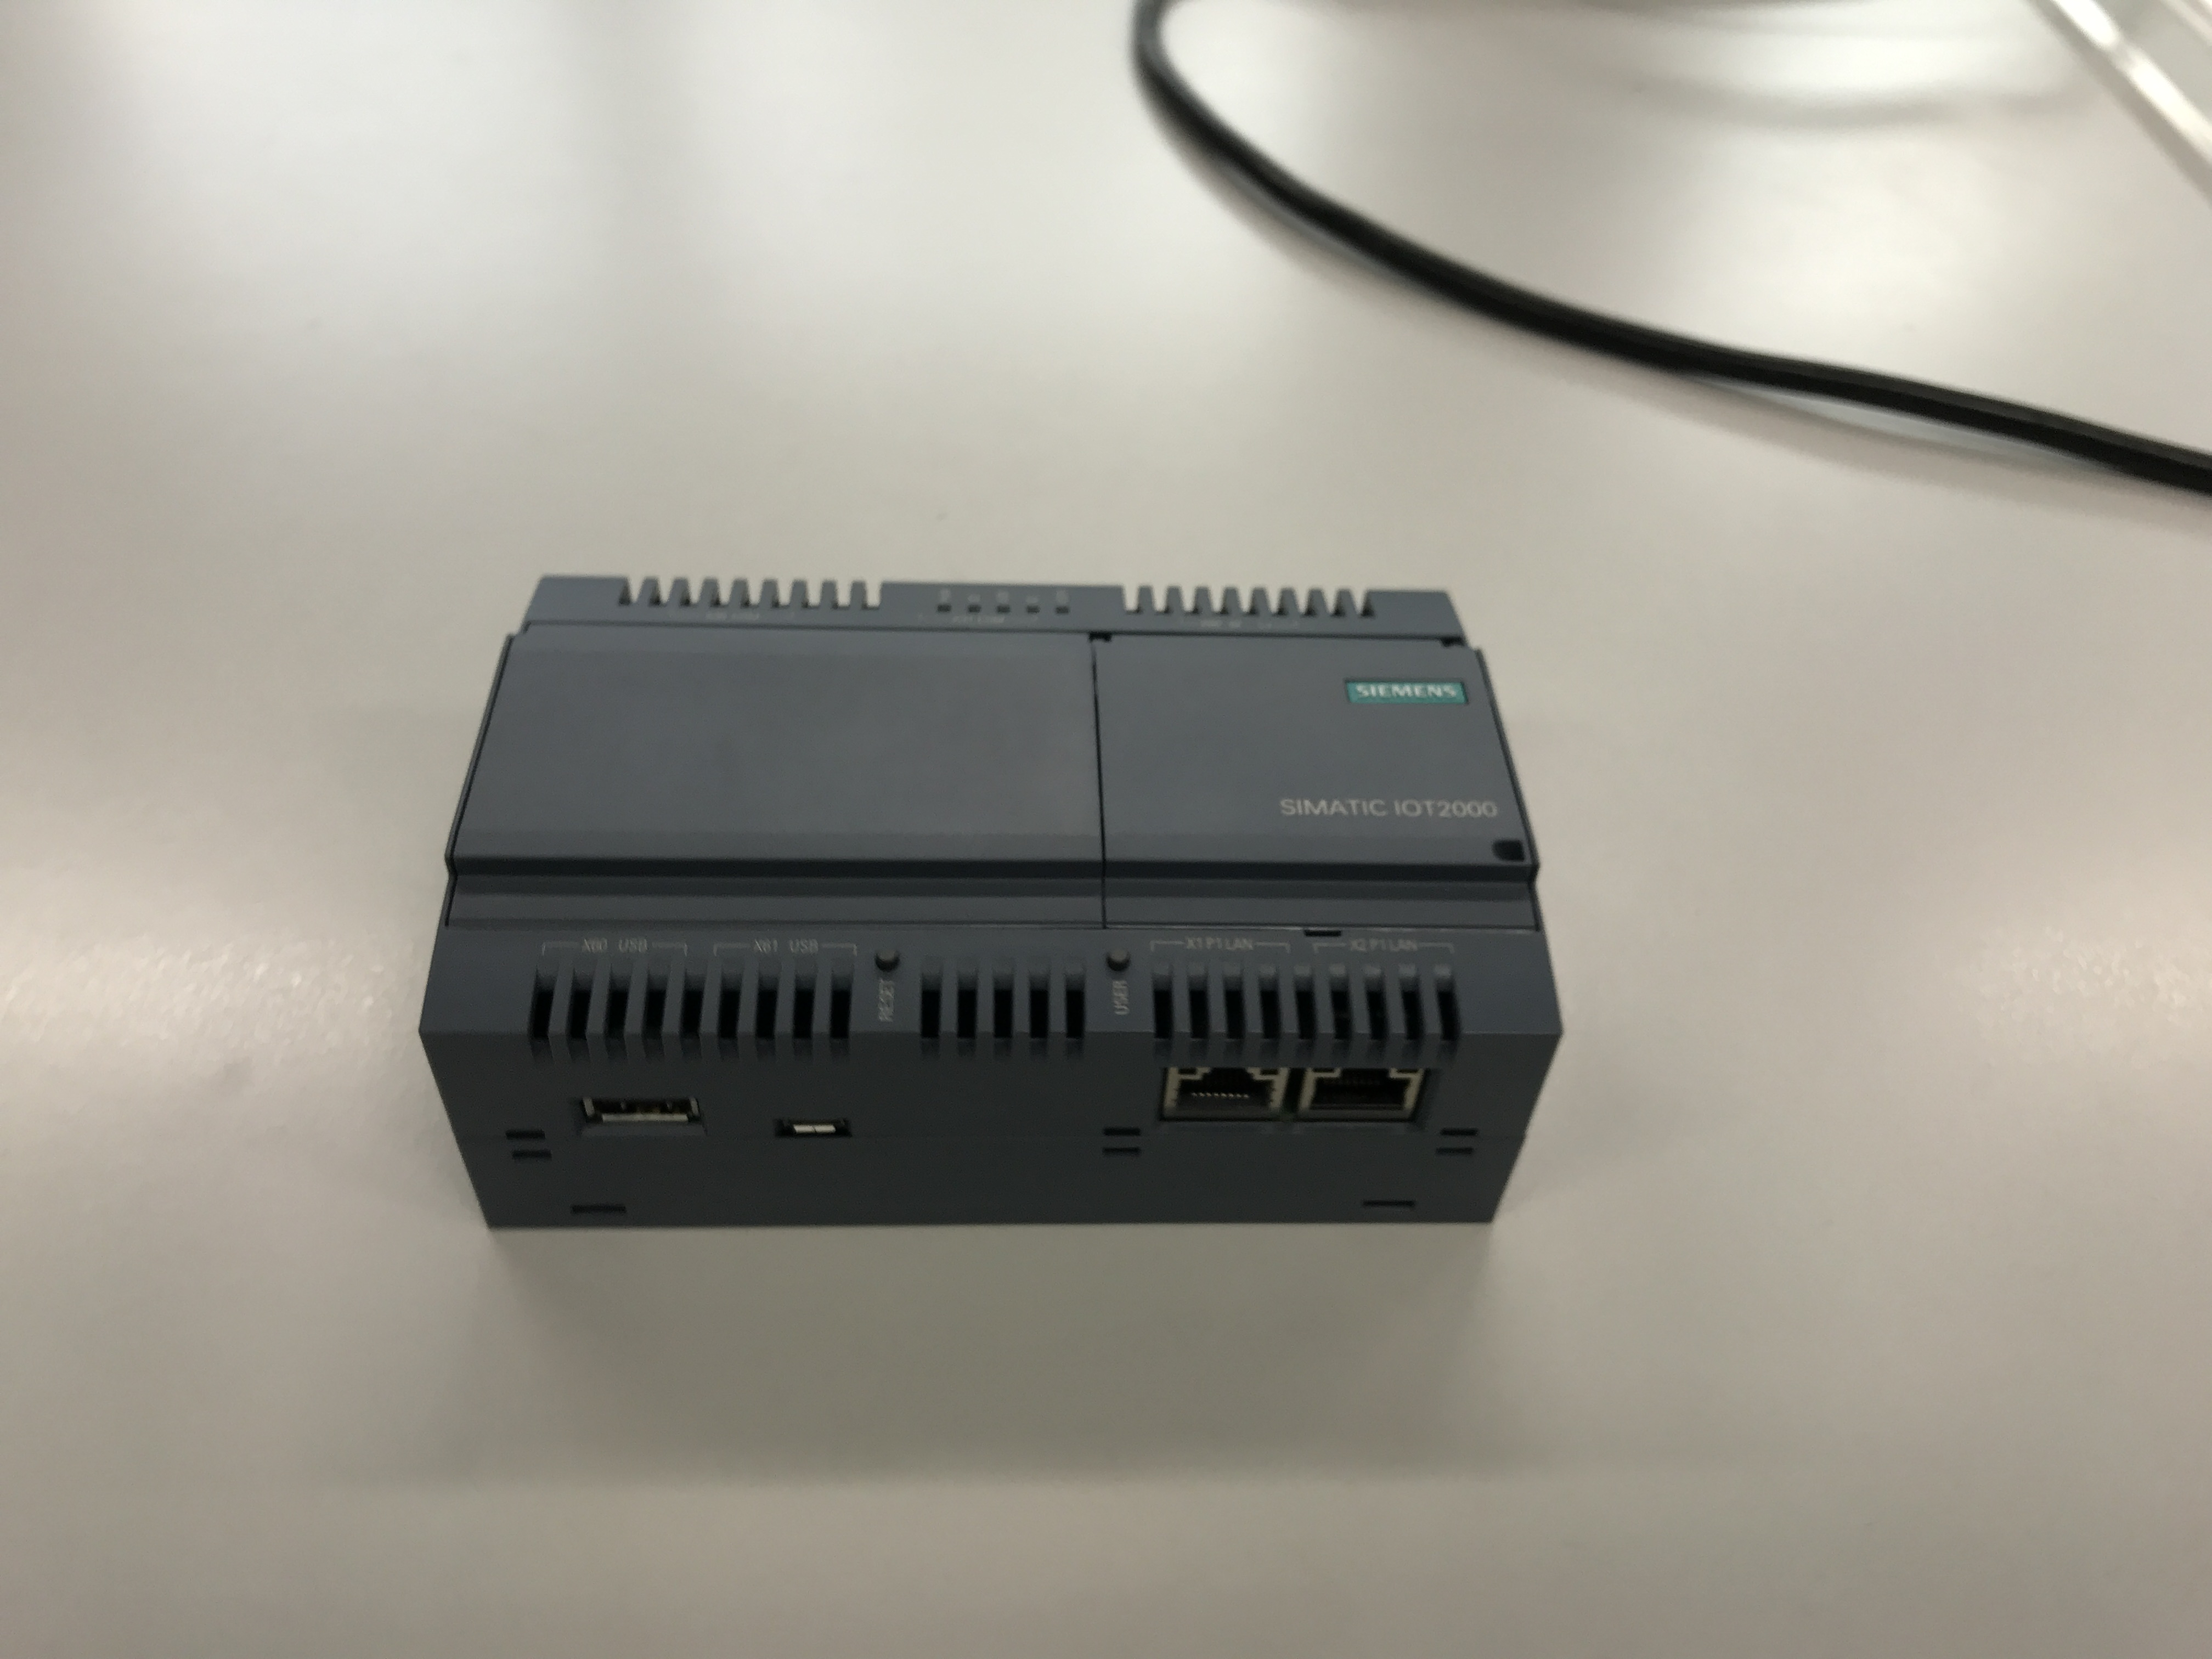device: (416, 575, 1568, 1232)
